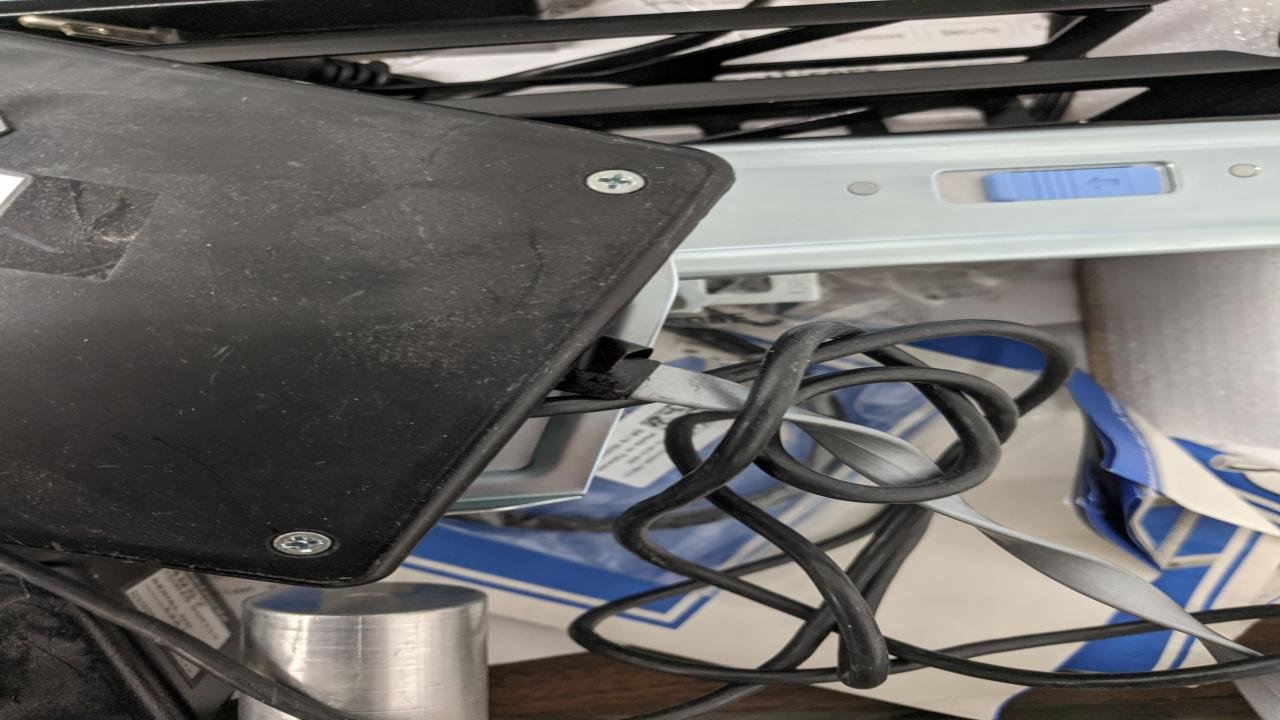CRS: (584, 169, 646, 198), (277, 531, 333, 556)
